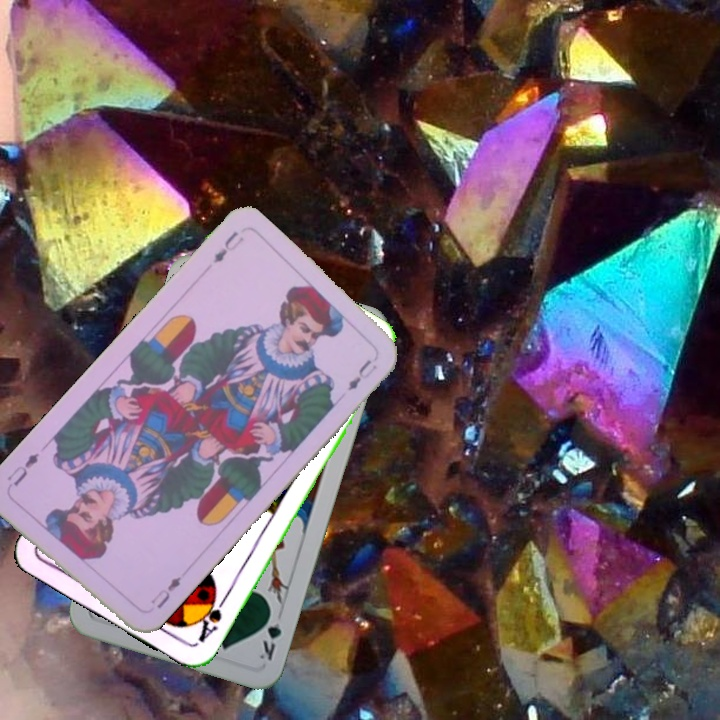EU: (146, 572, 184, 611), (209, 227, 247, 266)
GK: (255, 605, 285, 663)
SA: (192, 587, 230, 646)
